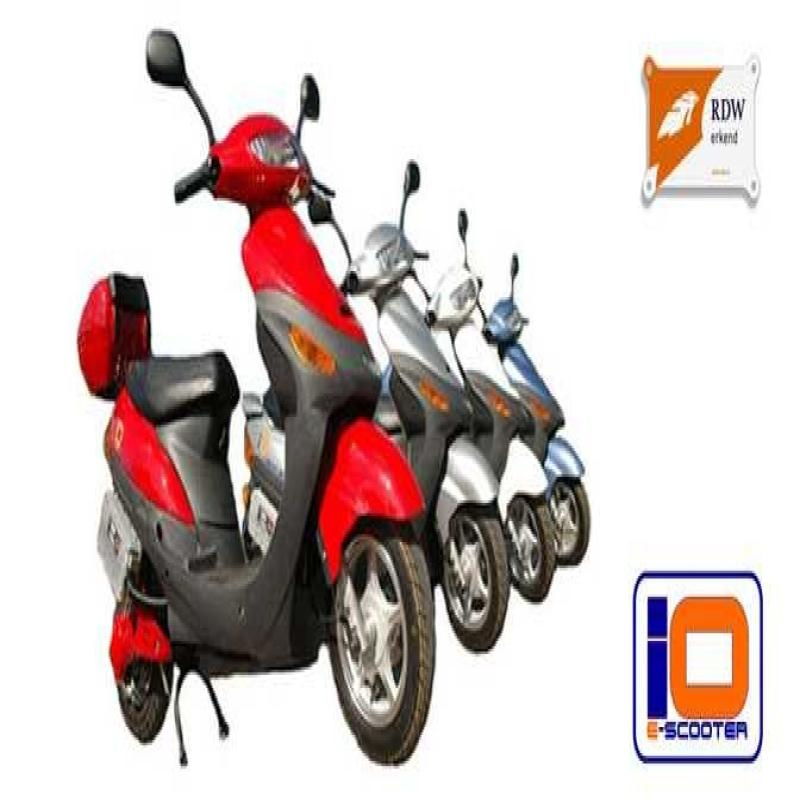bike: (62, 11, 433, 763), (367, 129, 496, 692), (453, 229, 551, 621), (512, 211, 590, 606)
